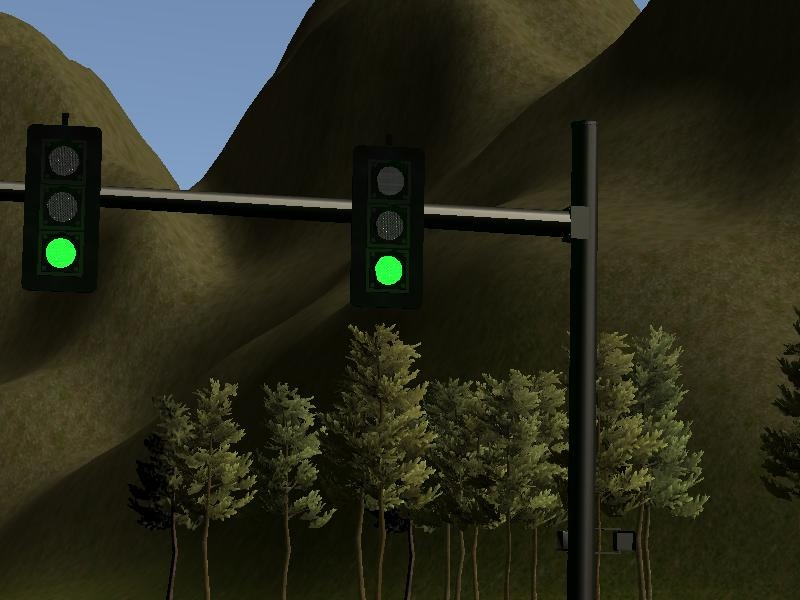GREEN: (23, 124, 103, 282), (351, 150, 424, 311)
